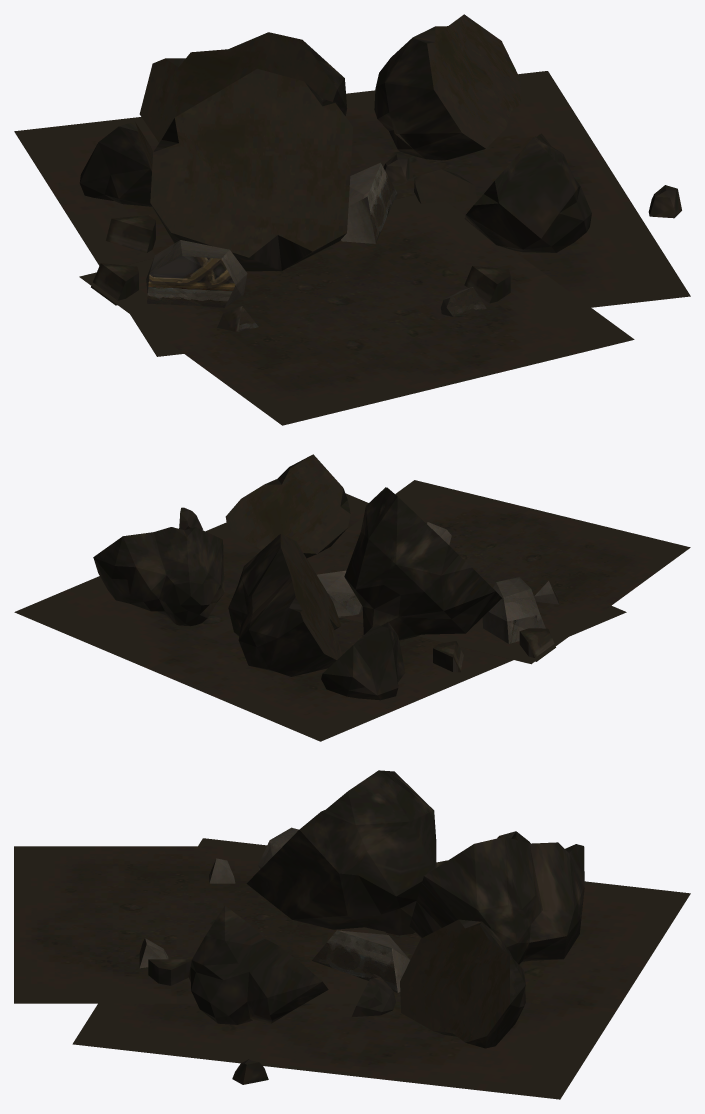
The model's file is fortress_rubble_03.fbx.
3 views of the same model, one above another, from view 1: azimuth 30°, elevation 25°; view 2: azimuth 150°, elevation 25°; view 3: azimuth 270°, elevation 25° (orthographic). The views are drawn at different scales.
Visible parts, largest first — view 1: fortress_rubble_03-0; view 2: fortress_rubble_03-0; view 3: fortress_rubble_03-0.
Boxes of the visible parts, <box> form: fortress_rubble_03-0: <box>14,14,690,425</box>; fortress_rubble_03-0: <box>14,454,690,741</box>; fortress_rubble_03-0: <box>14,770,690,1099</box>.
Bounding box in the file's own units: 4.9 × 1.43 × 5.36.
